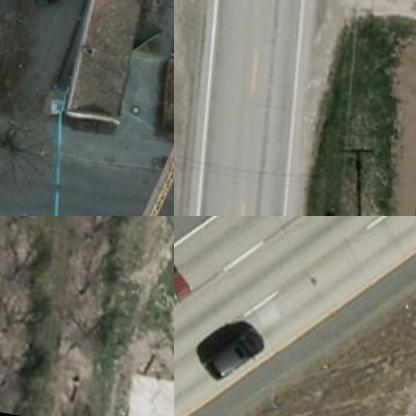car: (202, 320, 268, 381)
pickup: (174, 259, 197, 332)
